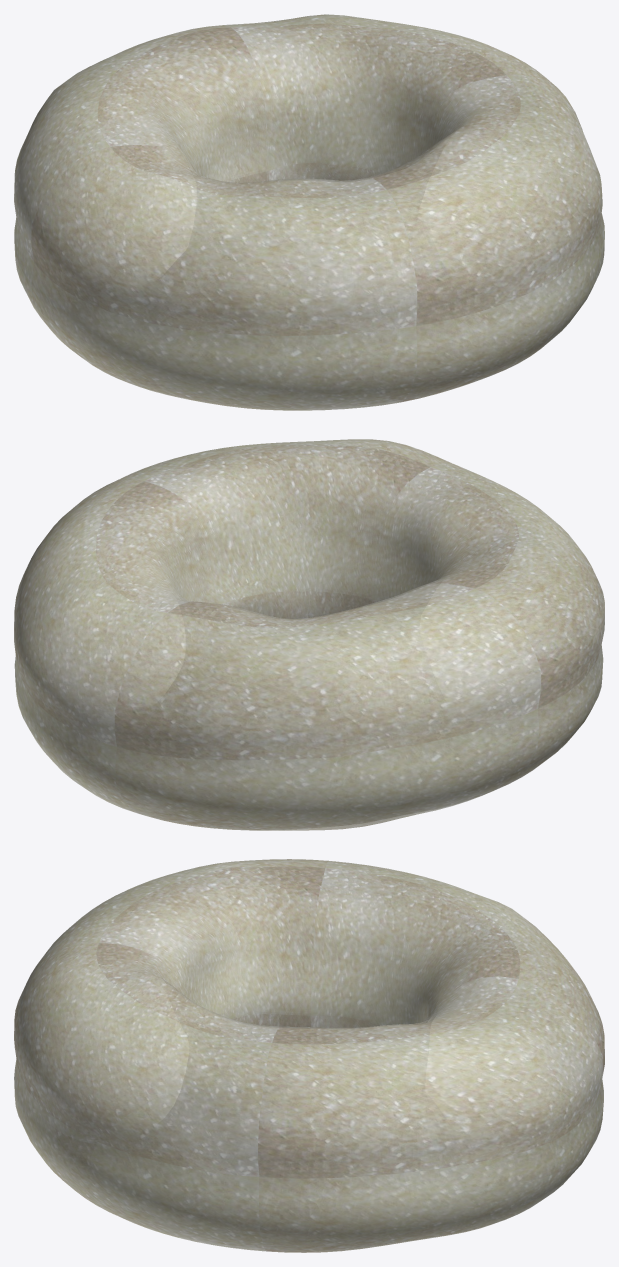
File: sugar.glb
3 views of the same model, one above another, from view 1: azimuth 30°, elevation 25°; view 2: azimuth 150°, elevation 25°; view 3: azimuth 270°, elevation 25° (orthographic). The views are drawn at different scales.
Visible parts, largest first — view 1: sugar; view 2: sugar; view 3: sugar.
Boxes of the visible parts, box(x1,y1,x2,y2) form: sugar: box(14, 14, 604, 410); sugar: box(14, 439, 604, 830); sugar: box(14, 859, 604, 1252).
Size of the model in its own units: 0.1515 by 0.0634 by 0.1515.
Materials: 1 (1 with a texture image).
